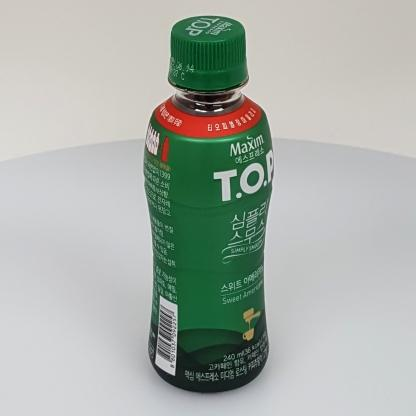--TOP--------------240ML: (143, 15, 274, 395)
